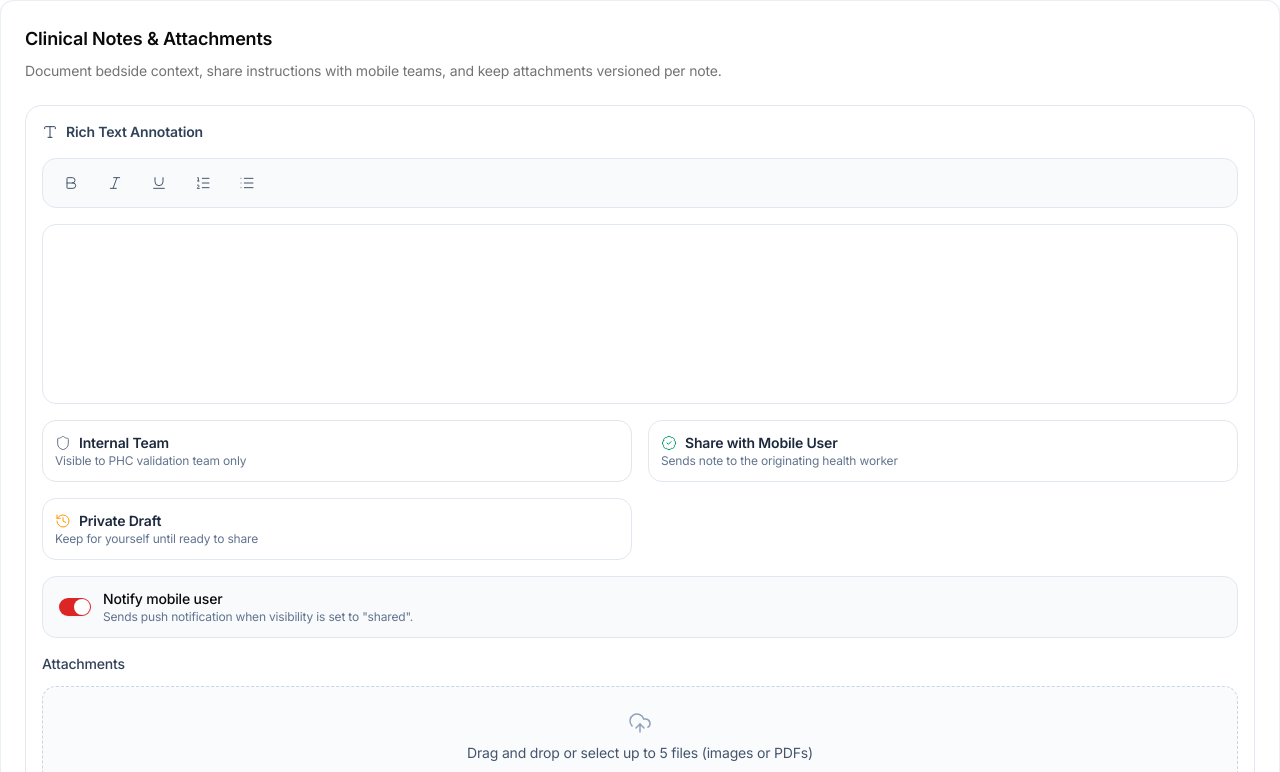
it: ClinicalNotesEditor › Rich Text Editor › allows typing text into editor
Click the text box named "Clinical notes rich text editor" at (640, 314), box [42,224,1238,404]
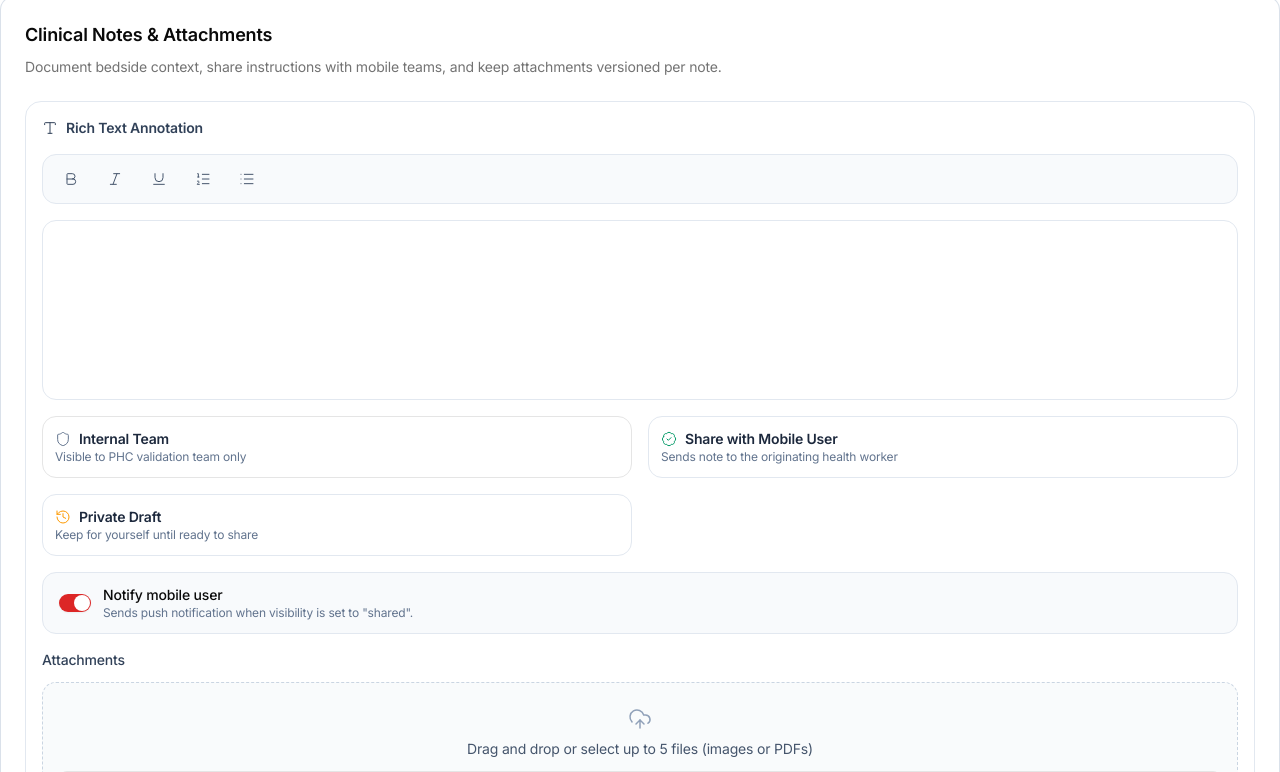
Type keys "Patient shows improvement"
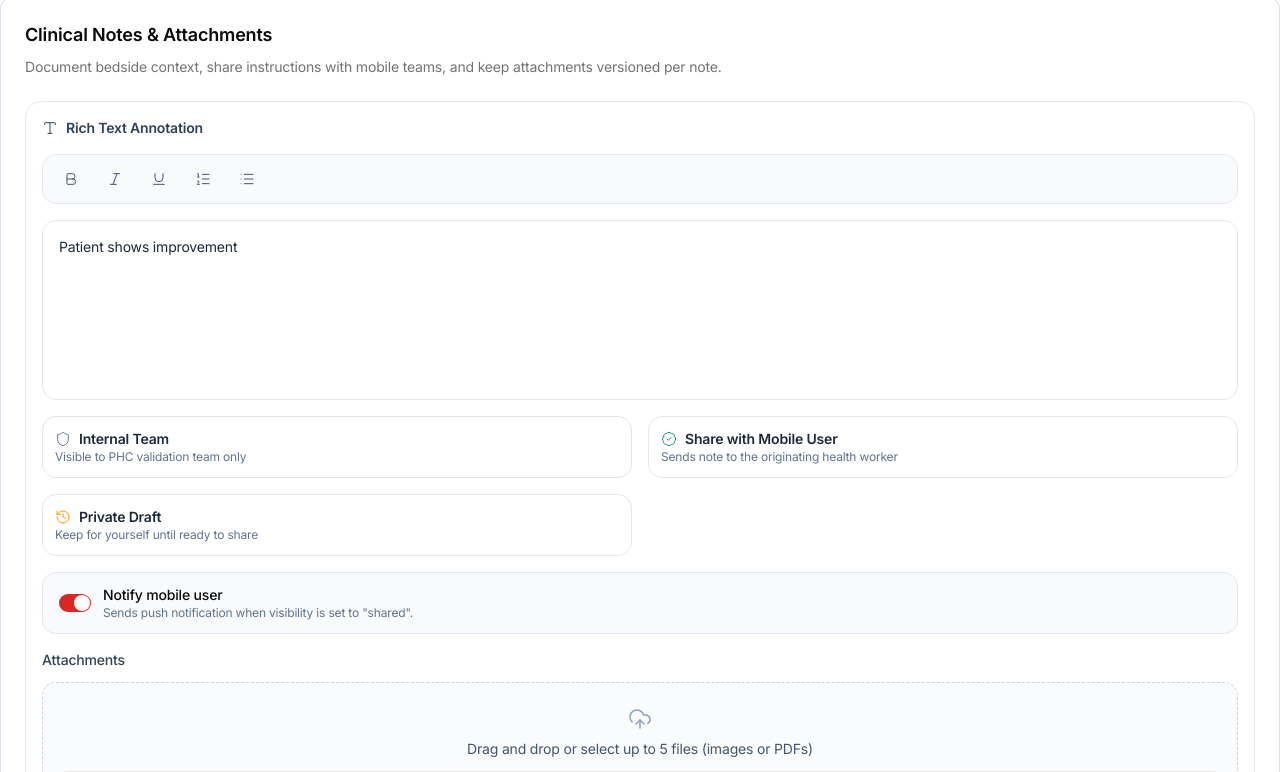
Result: the text box named "Clinical notes rich text editor" reads "Patient shows improvement" at [42,220,1238,400]
